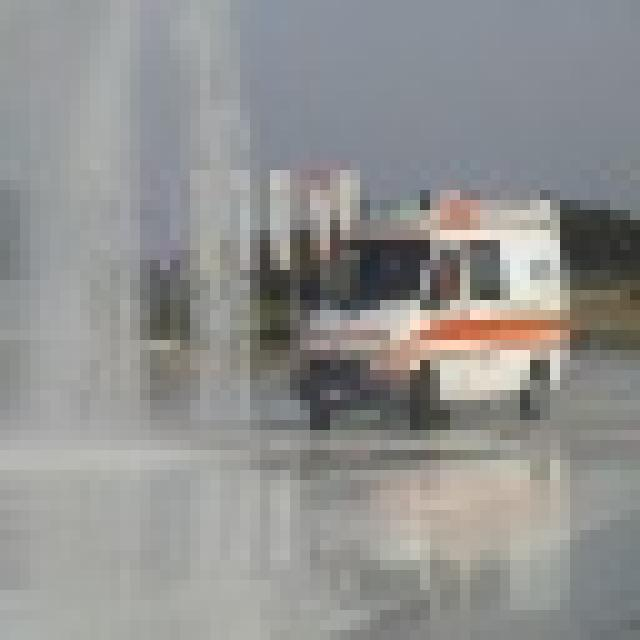Ambulance: (280, 180, 570, 430)
